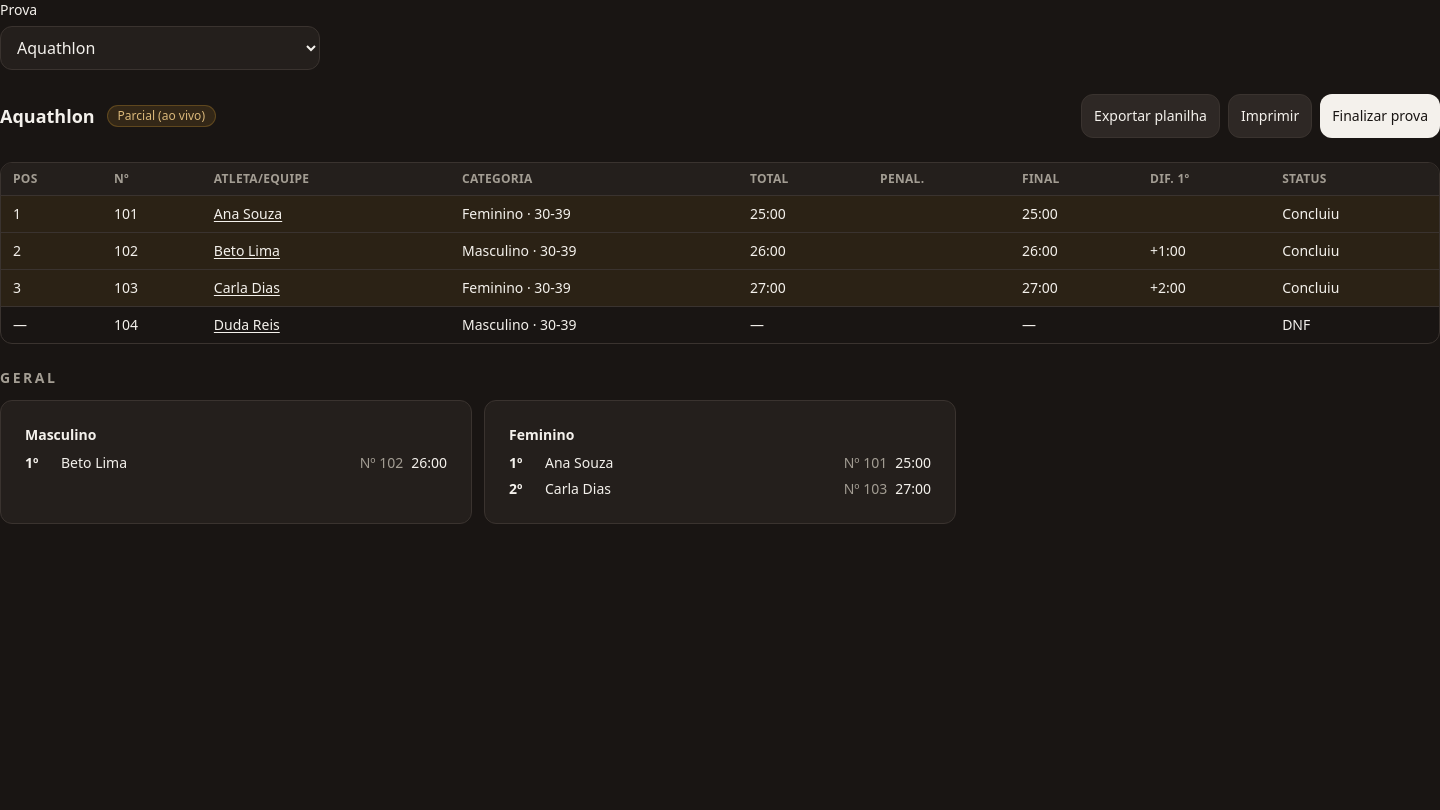
Test case: ResultsTab › finalize: the confirm counts pending issues without "(s)" plurals and no longer promises the results never change
This screenshot has width=1440, height=810.
Click the button with test id "finalize-race".
click(1380, 116)  # box [1320, 94, 1439, 138]
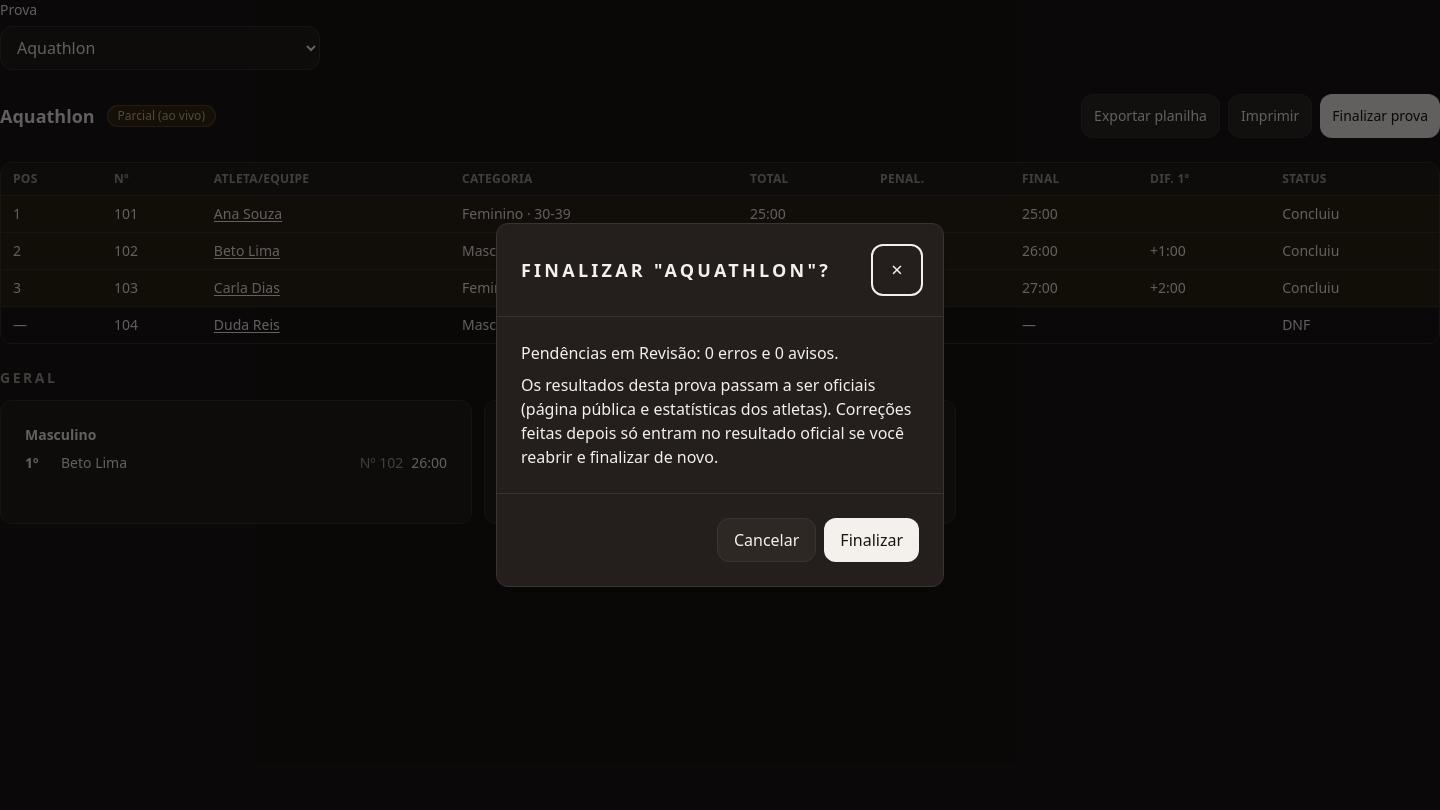
Expected: the dialog does not show "(s)", [496, 223, 944, 587]
Expected: the dialog shows "Pendências em Revisão: 0 erros e 0 avisos.", [496, 223, 944, 587]
Expected: the dialog shows "reabrir e finalizar de novo", [521, 374, 912, 468]
